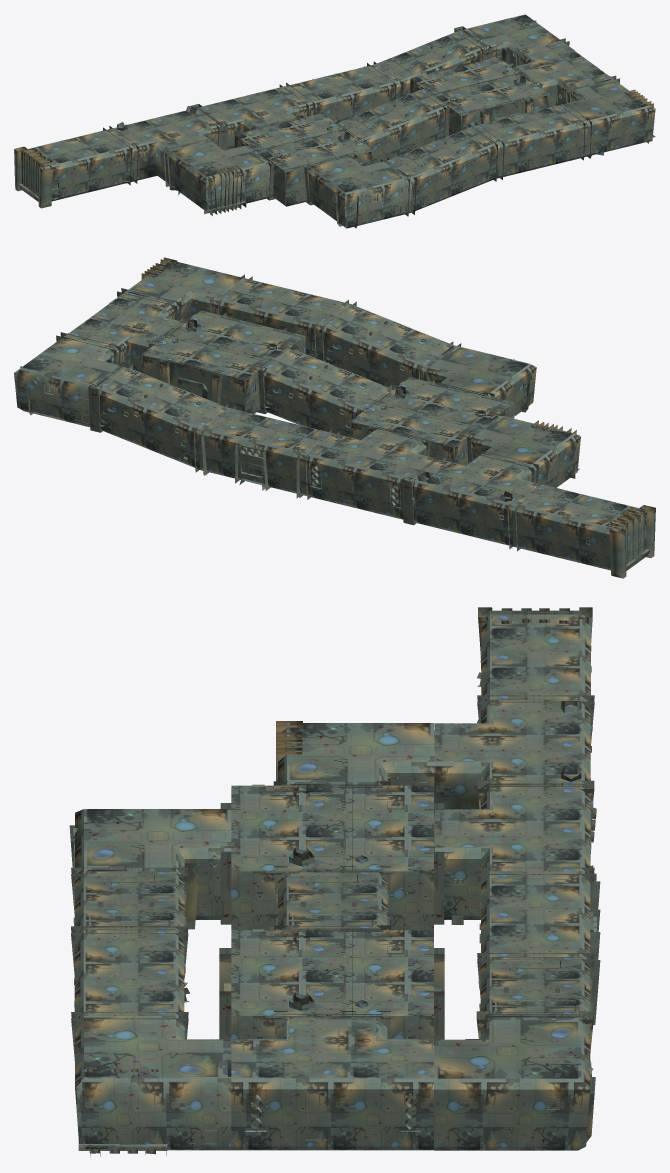
The model's file is Combined_Mesh_root_scene__3_4fde1142__zombies2_diffuse_02_6de118bf_c1f257.obj.
The picture shows the model from 3 angles, top to bottom: view 1: azimuth 30°, elevation 25°; view 2: azimuth 150°, elevation 25°; view 3: azimuth 270°, elevation 25°; orthographic projection. The views are drawn at different scales.
Size of the model in its own units: 117 by 12.76 by 52.4.
Materials: 230 (230 with a texture image).
